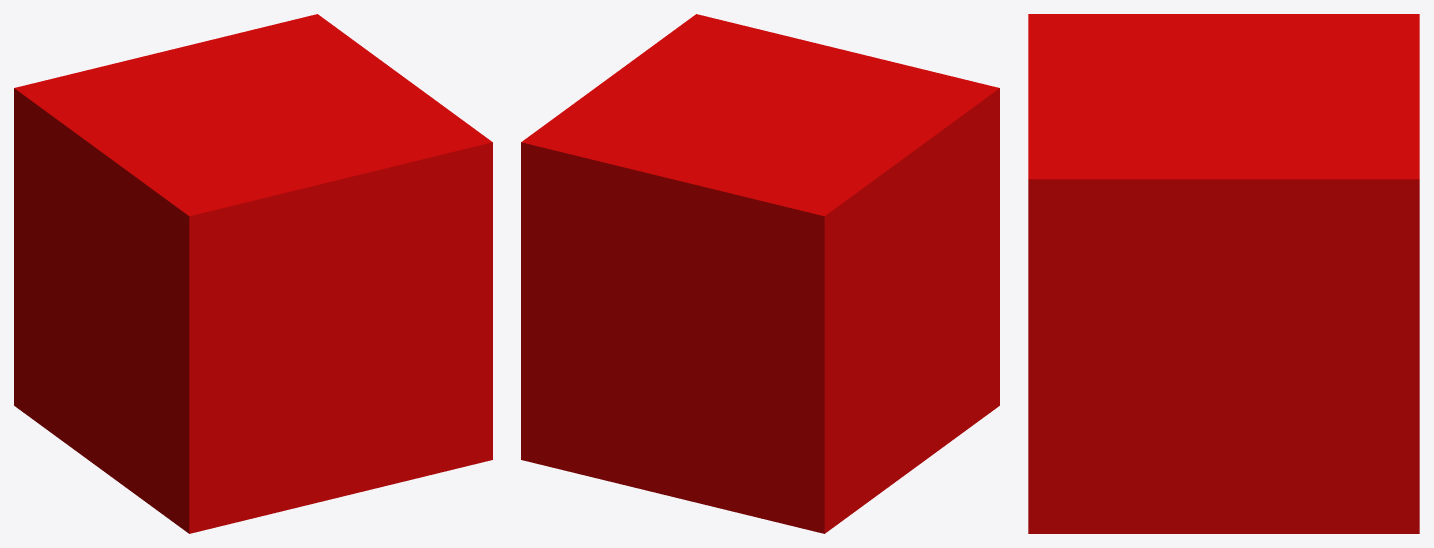
The model's file is emmisivetest.glb.
3 views of the same model, side by side, from view 1: azimuth 30°, elevation 25°; view 2: azimuth 150°, elevation 25°; view 3: azimuth 270°, elevation 25° (orthographic). The views are drawn at different scales.
Parts seen in each view (by area): view 1: Mesh; view 2: Mesh; view 3: Mesh.
Part boxes in pixels (left/top/right/bottom): Mesh: left=14, top=14, right=492, bottom=533; Mesh: left=521, top=14, right=999, bottom=533; Mesh: left=1028, top=14, right=1419, bottom=533.
Size of the model in its own units: 8 by 8 by 8.
